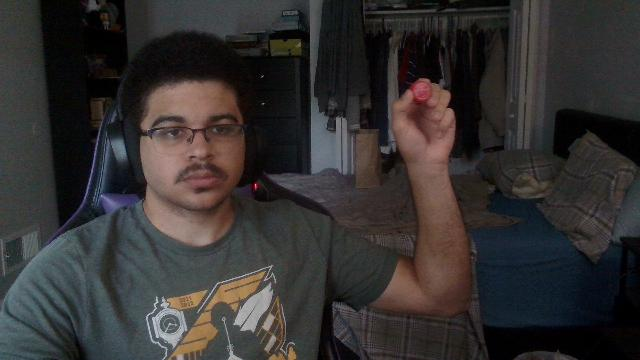cap: (411, 81, 432, 103)
